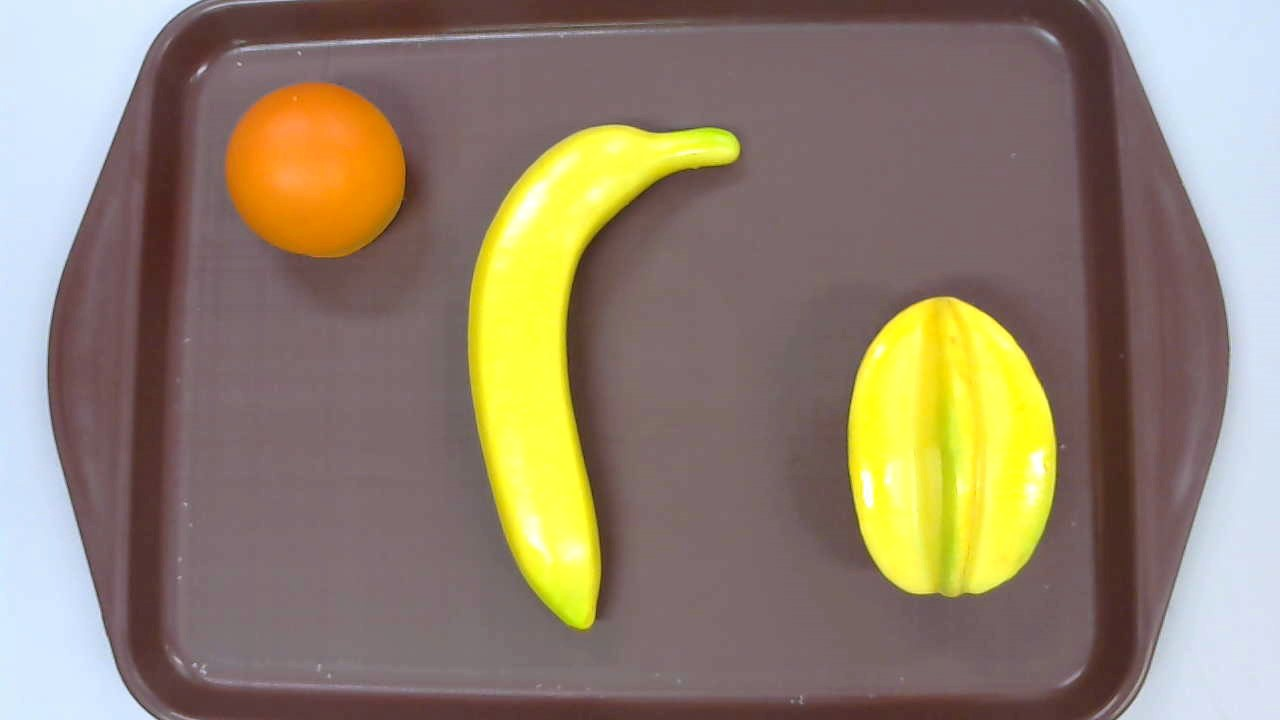banana: (466, 122, 743, 631)
bun: (224, 83, 404, 258)
star fruit: (846, 295, 1057, 598)
